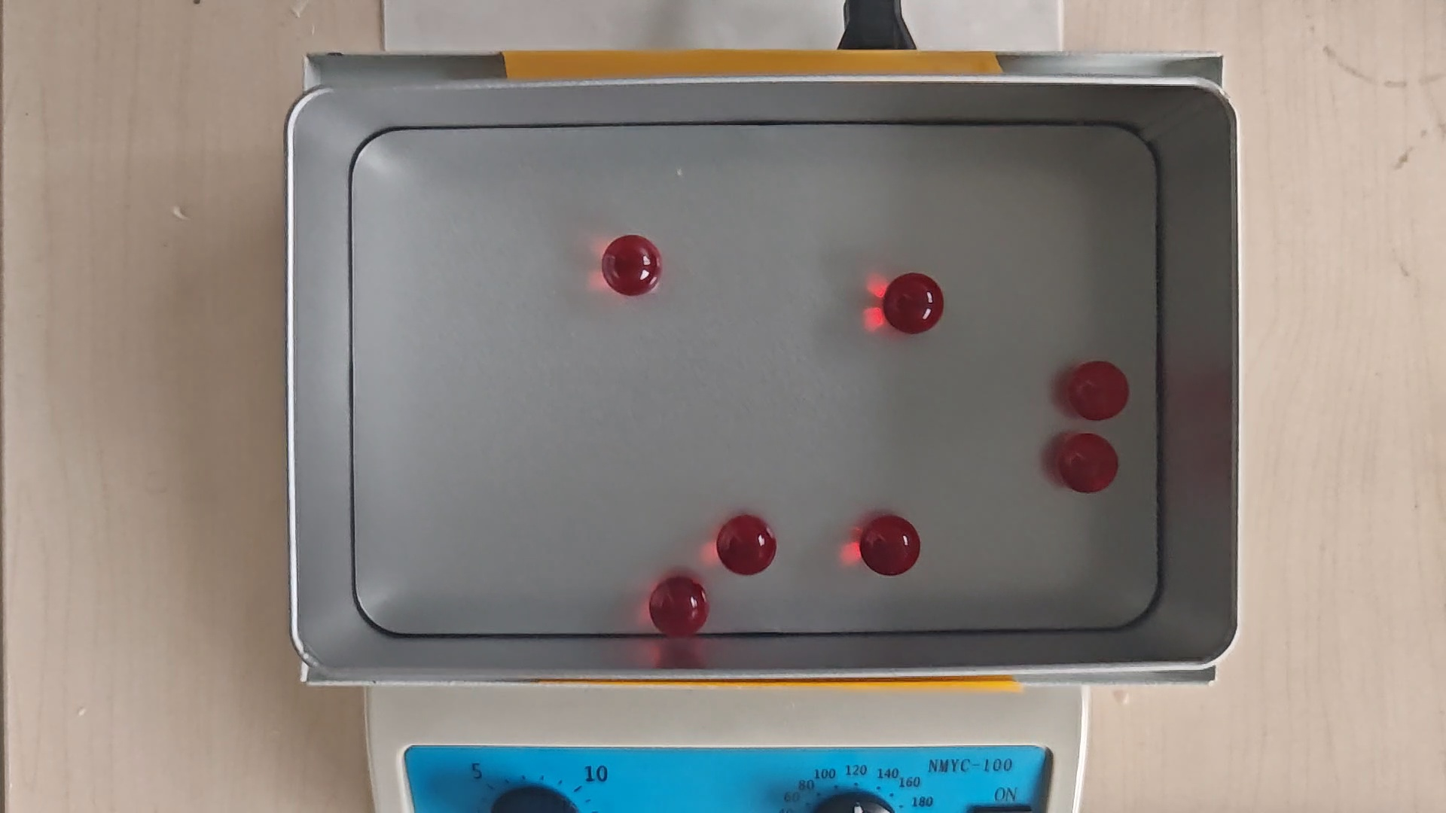ball: (882, 271, 946, 335), (1068, 360, 1131, 424), (857, 513, 922, 575), (1057, 434, 1121, 495), (601, 234, 663, 296), (717, 515, 778, 576), (649, 578, 710, 637)
container: (351, 125, 1160, 633)
